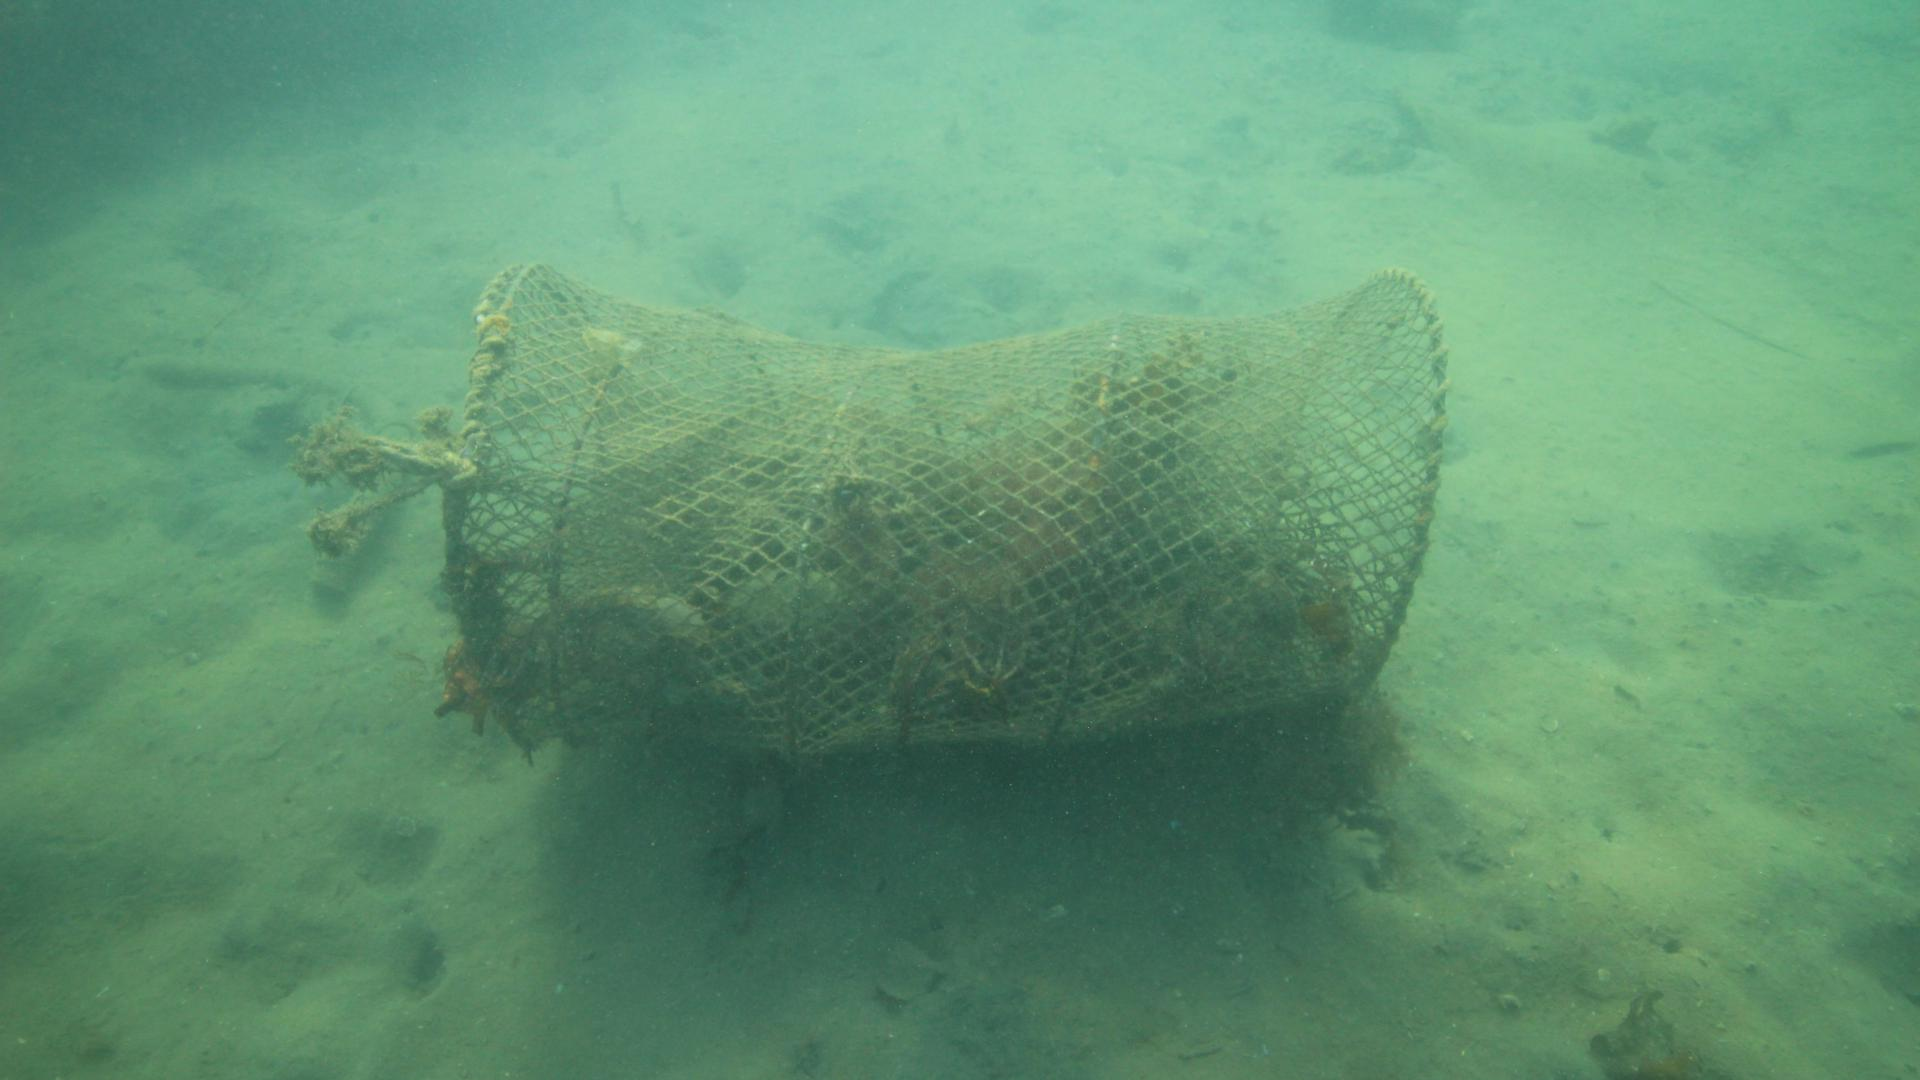spring fish trap: (439, 258, 1451, 764)
